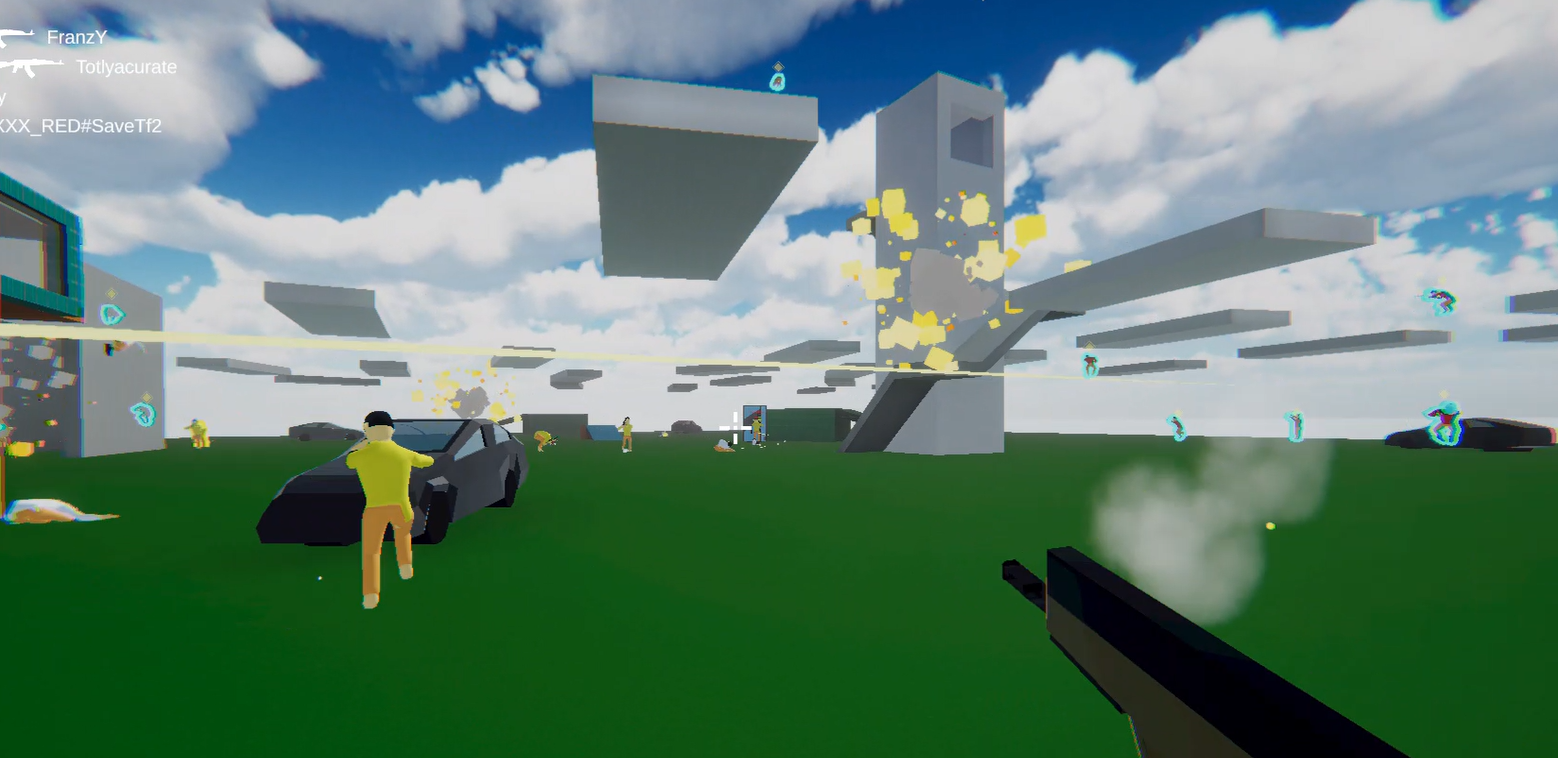ally: (1427, 281, 1464, 321), (1436, 397, 1465, 445), (96, 295, 127, 326), (136, 397, 159, 429), (1288, 403, 1305, 442), (1166, 413, 1187, 442), (768, 67, 790, 93), (1084, 351, 1103, 378)
human: (348, 383, 429, 603), (184, 409, 214, 449), (618, 413, 635, 455)
